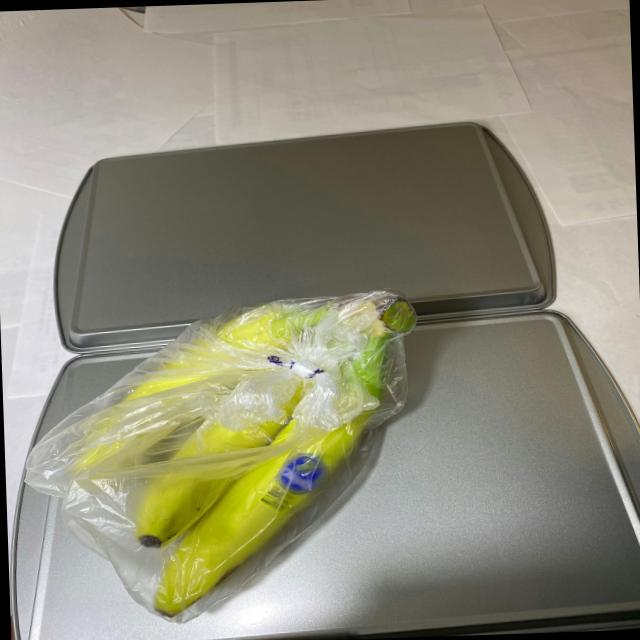banana: (40, 285, 441, 624)
